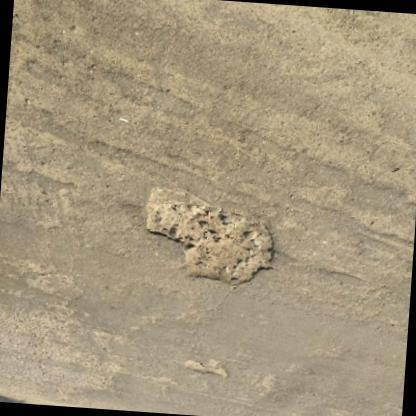pothole: (144, 186, 276, 286)
